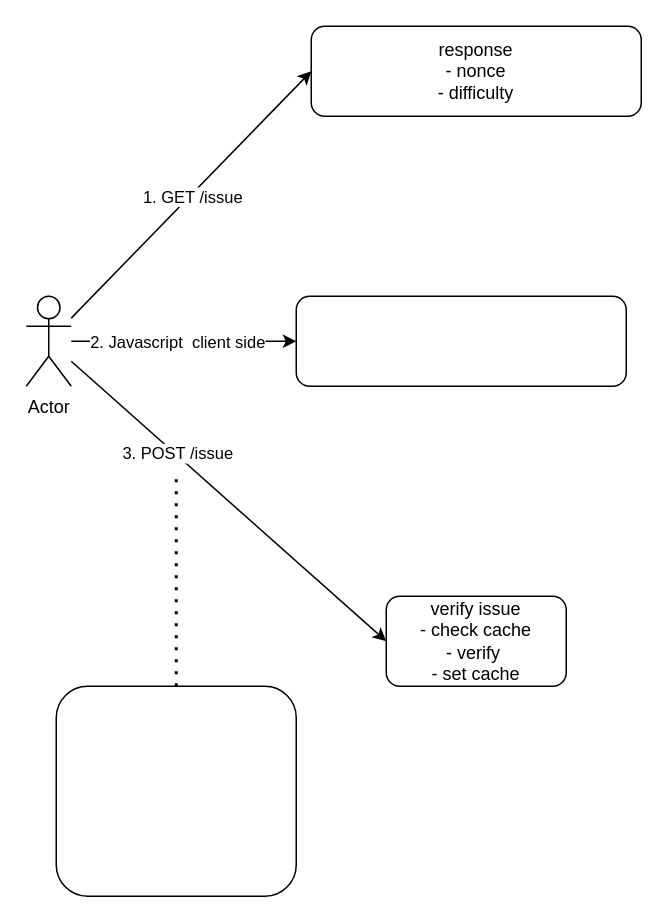
This 668x923 diagram has some shape labels left out. Each missing label, with the centre of its shape:
Generate hash based on nonce & difficulty: [460,340]
request body nonce str counter int hash str: [175,790]
